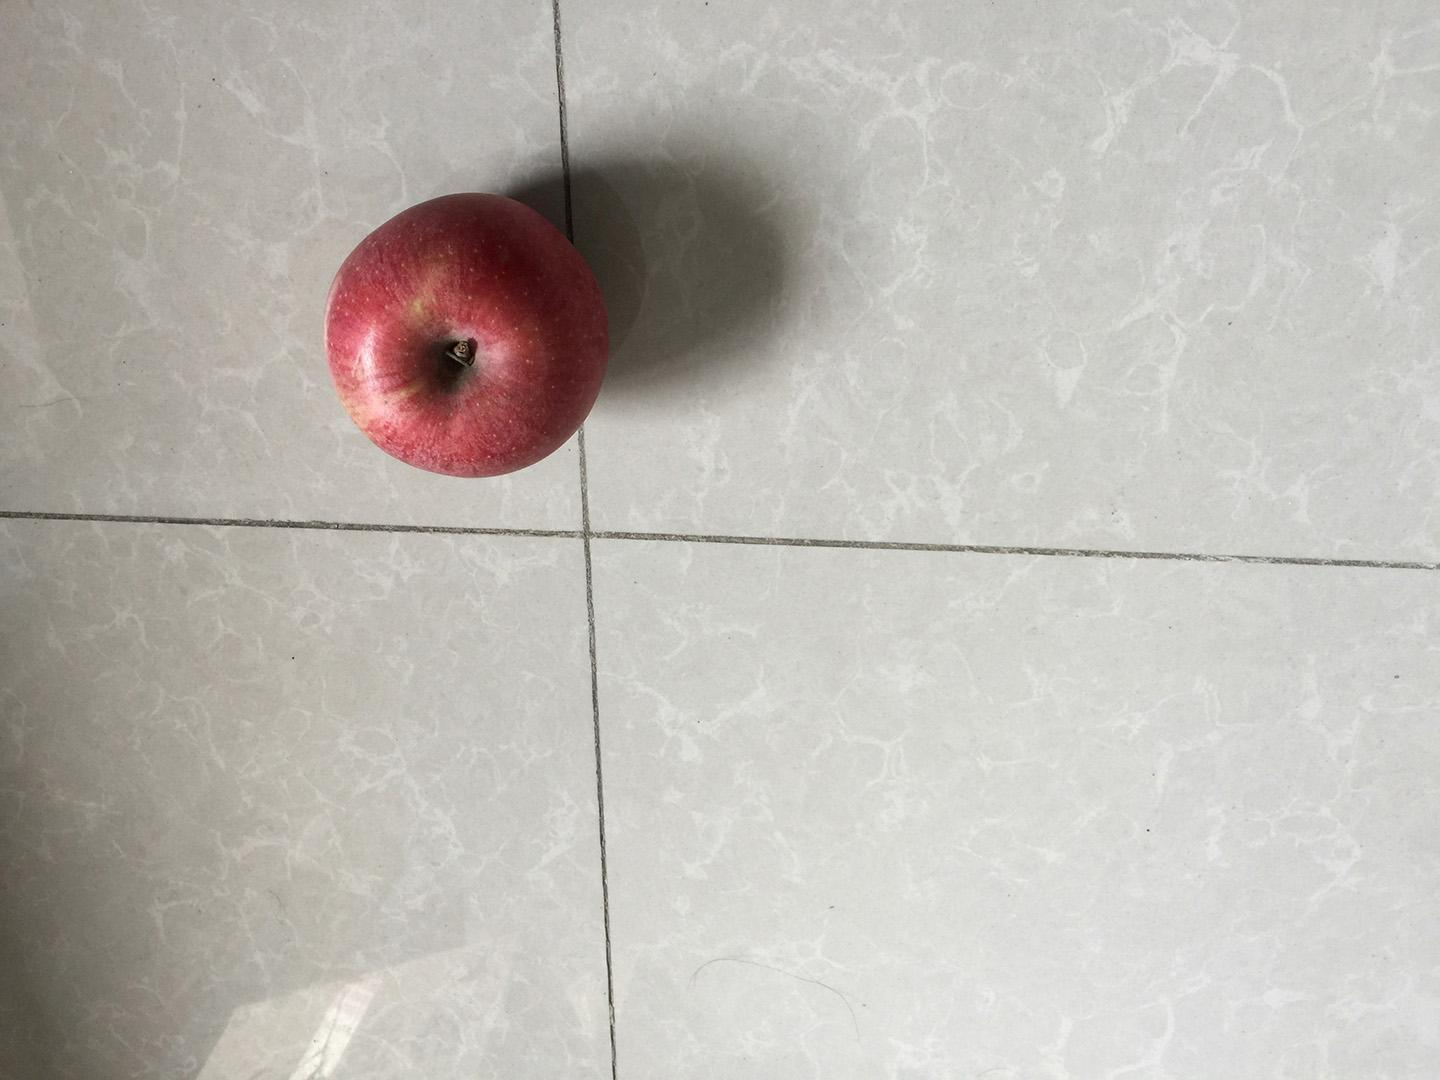apple: (317, 186, 615, 482)
